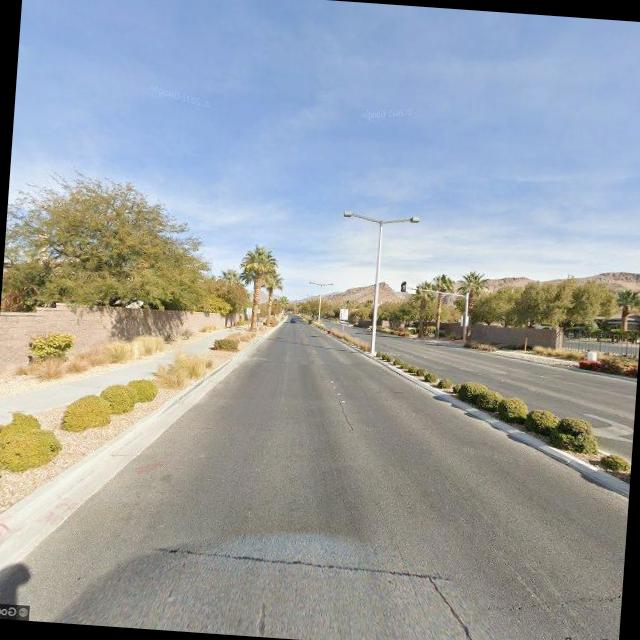crack: (334, 395, 360, 434)
